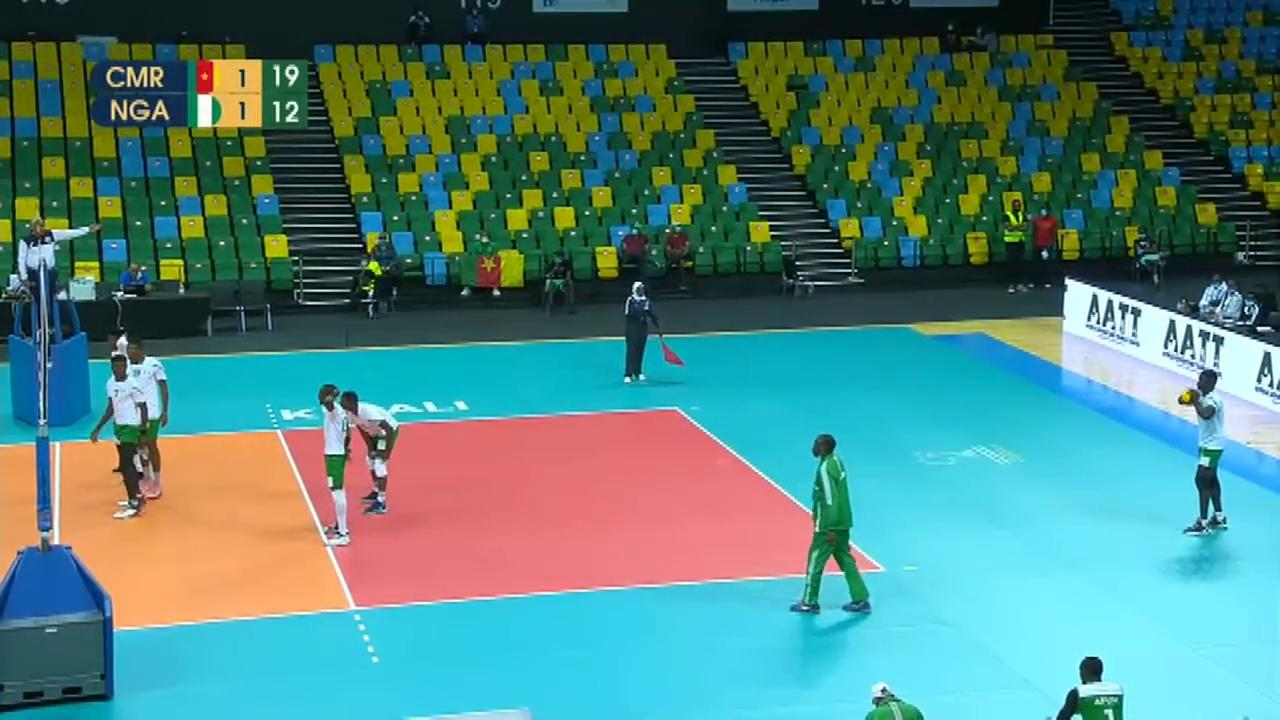player: (114, 341, 186, 504), (344, 376, 411, 527), (96, 355, 147, 523), (309, 376, 357, 544), (1183, 370, 1230, 529), (105, 316, 147, 479)
refree: (19, 214, 81, 332), (619, 278, 685, 380)
